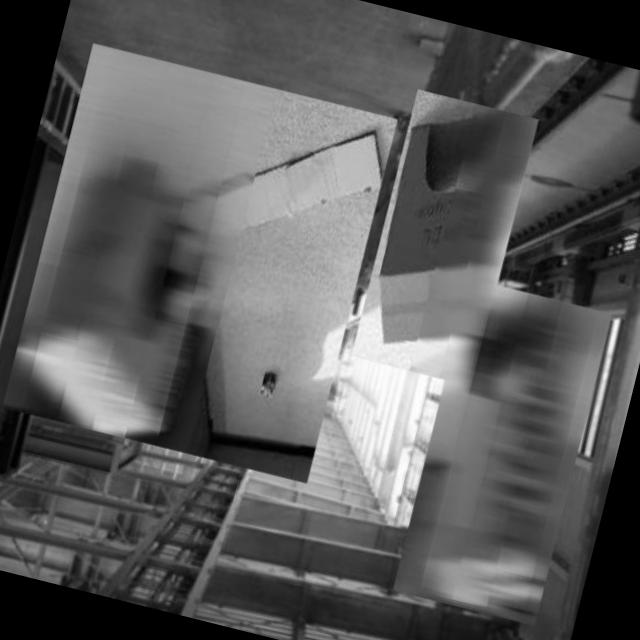box: (0, 34, 403, 489), (388, 272, 614, 629), (346, 84, 542, 390)
